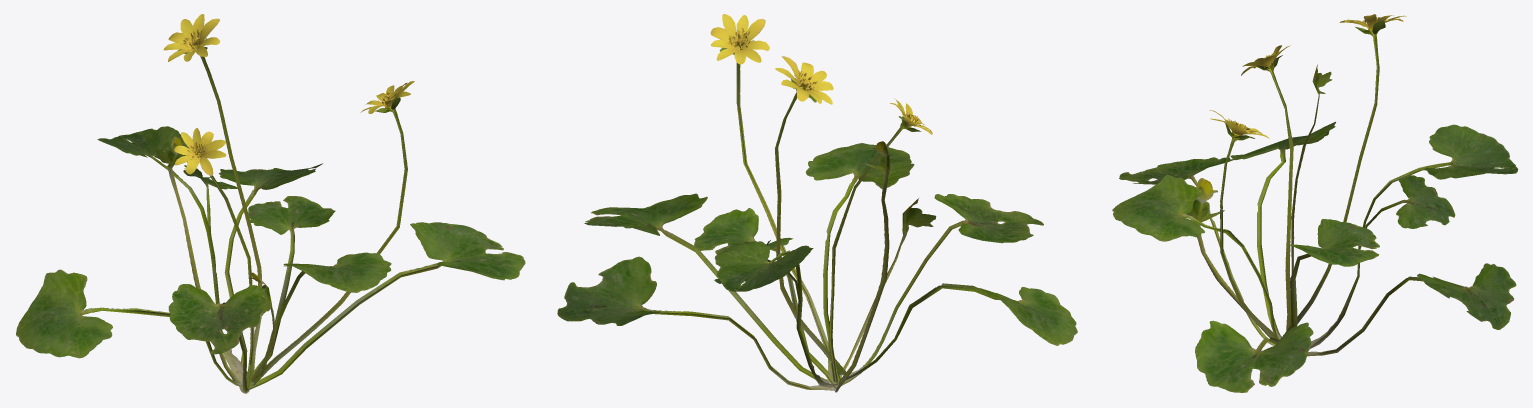
The model's file is perennial-gold-lod0.glb.
3 views of the same model, side by side, from view 1: azimuth 30°, elevation 25°; view 2: azimuth 150°, elevation 25°; view 3: azimuth 270°, elevation 25° (orthographic). The views are drawn at different scales.
Visible parts, largest first — view 1: foliage; view 2: foliage; view 3: foliage.
Boxes of the visible parts, x1,y1,x2,y2 form: foliage: [16, 14, 525, 393]; foliage: [557, 14, 1077, 392]; foliage: [1112, 14, 1518, 392].
Size of the model in its own units: 0.2571 by 0.1756 by 0.1863.
Materials: 1 (1 with a texture image).
